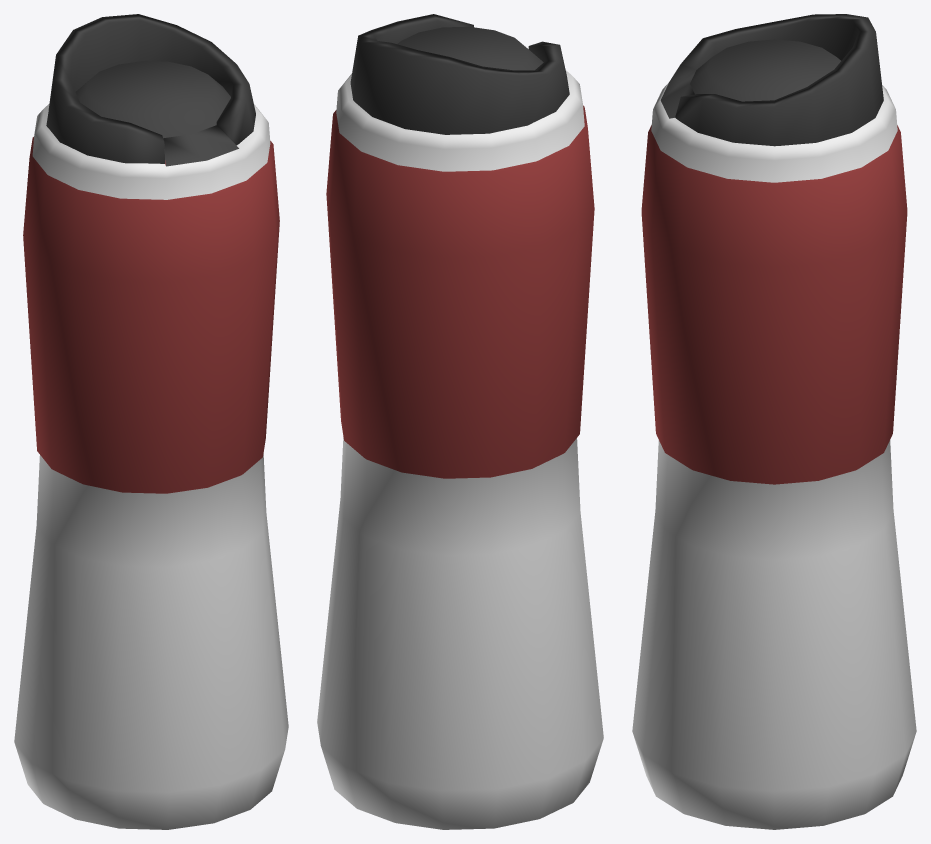
The model's file is Thermos.fbx.
The picture shows the model from 3 angles, left to right: view 1: azimuth 30°, elevation 25°; view 2: azimuth 150°, elevation 25°; view 3: azimuth 270°, elevation 25°; orthographic projection. The views are drawn at different scales.
Visible parts, largest first — view 1: Thermos; view 2: Thermos; view 3: Thermos.
Part boxes in pixels (x1,y1,x2,y2): Thermos: (14,14,288,829); Thermos: (317,14,603,829); Thermos: (632,14,916,829).
Bounding box in the file's own units: 8.36 × 24.14 × 8.36.
